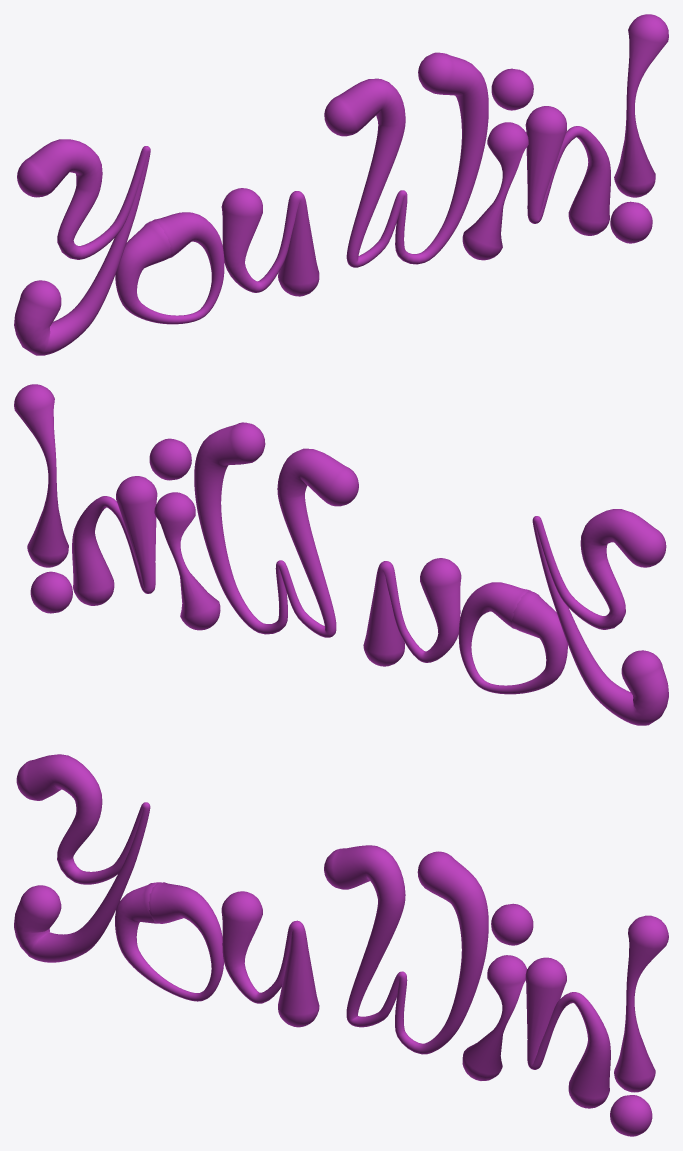
Rendered from You Win.fbx.
3 renders of one model, top to bottom at view 1: azimuth 30°, elevation 25°; view 2: azimuth 150°, elevation 25°; view 3: azimuth 330°, elevation 25°, orthographic.
Visible parts, largest first — view 1: node_id28 (×9); view 2: node_id28 (×9); view 3: node_id28 (×9).
Part boxes in pixels (bbox=[...]): node_id28 (×9): bbox=[14, 14, 668, 355]; node_id28 (×9): bbox=[14, 384, 668, 725]; node_id28 (×9): bbox=[14, 754, 668, 1136].
Bounding box in the file's own units: 1.34 × 0.4713 × 0.0742.
